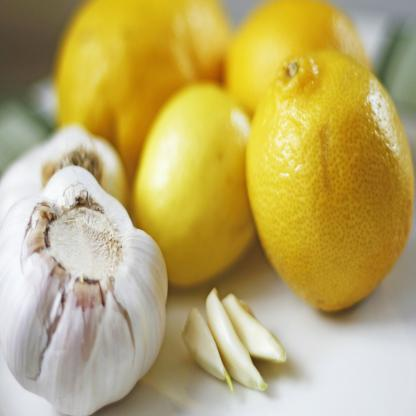garlic: (1, 176, 172, 416), (178, 282, 282, 399)
lemon: (246, 52, 416, 320), (138, 86, 258, 281)
